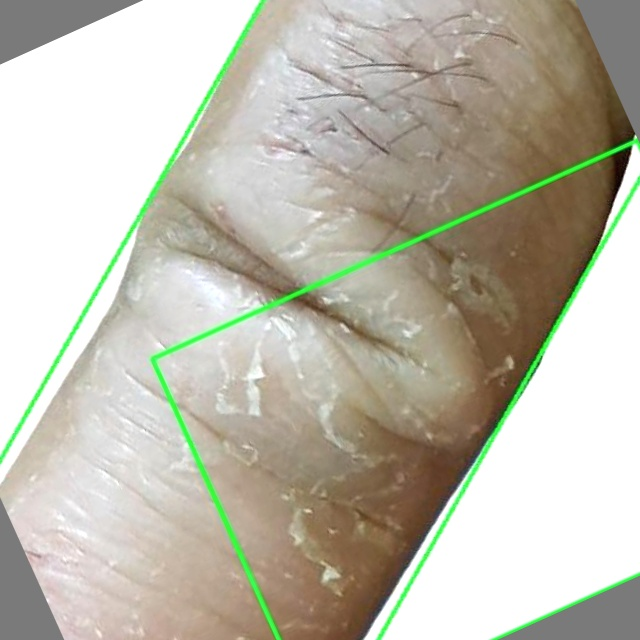Eczema: (41, 0, 599, 639), (152, 140, 639, 639)
